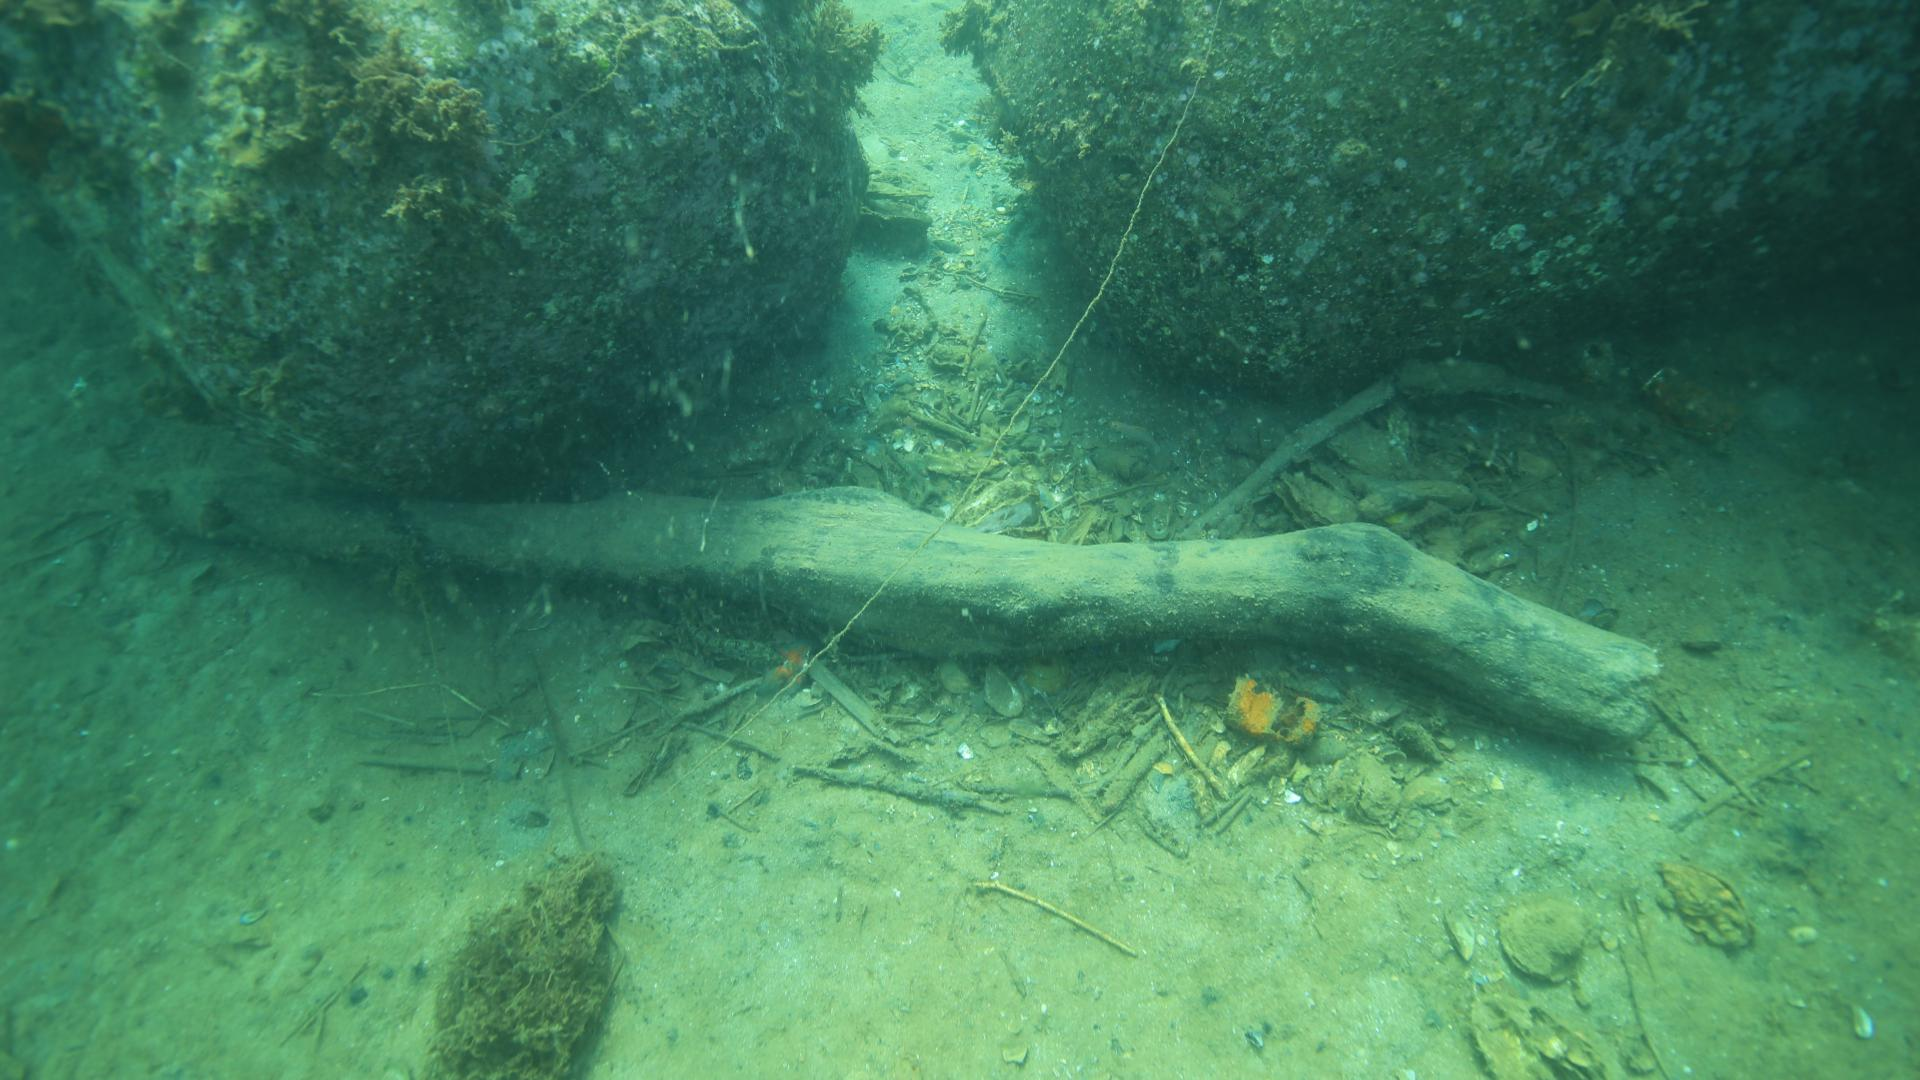wood: (140, 473, 1662, 752)
